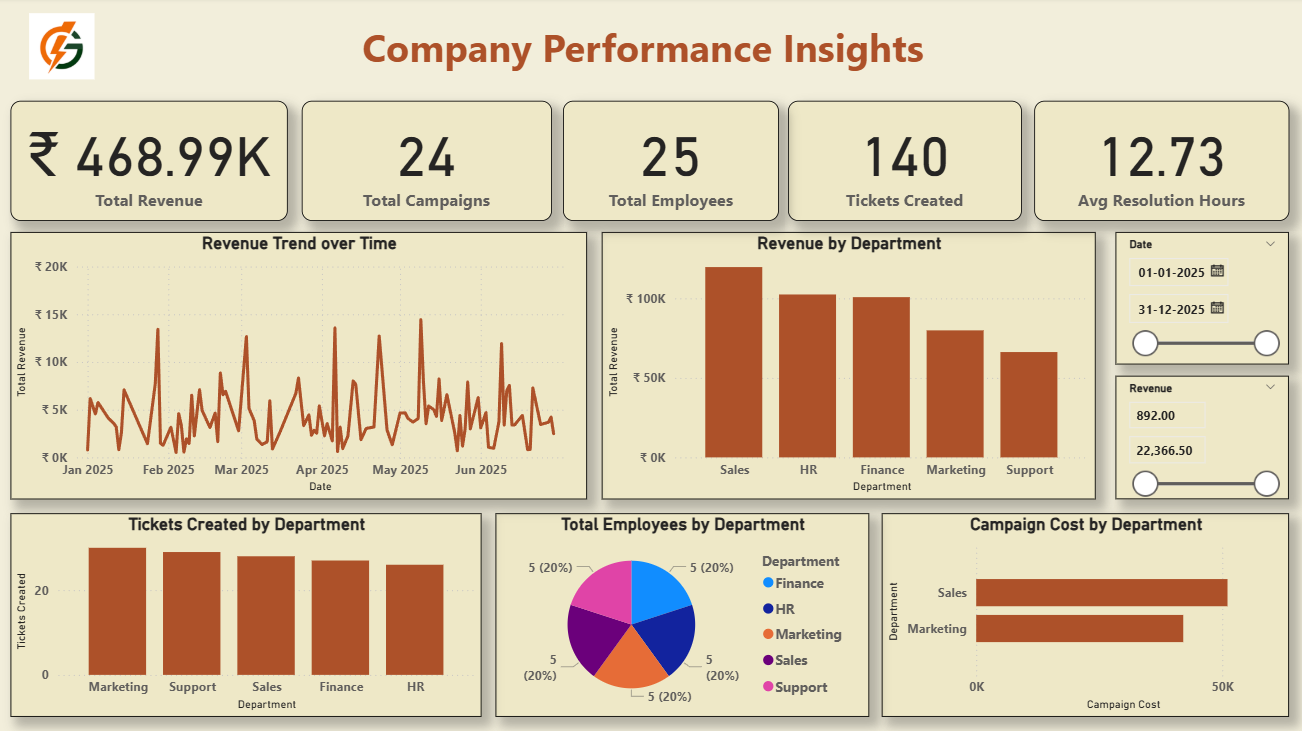

The dashboard page shown, as its layout file describes it:
{"tool":"powerbi","page":{"name":"Executive Dashboard","canvas":[1280,720],"ordinal":0},"visuals":[{"type":"card","fields":{"Values":["transactions.Total Revenue"]},"box":[12.2,101.5,271.5,117.4],"z":0},{"type":"clusteredColumnChart","title":"Revenue by Department","fields":{"Category":["transactions.Department"],"Y":["transactions.Total Revenue"]},"box":[590.6,229.9,483,261.7],"z":3},{"type":"card","fields":{"Values":["campaigns.Total Campaigns"]},"box":[297.1,101.5,244.6,117.4],"z":4},{"type":"barChart","fields":{"Category":["campaigns.Department"],"Y":["campaigns.Campaign Cost"]},"box":[864.5,505,398.6,199.3],"z":8},{"type":"card","fields":{"Values":["tickets.Tickets Created"]},"box":[772.8,101.5,228.7,117.4],"z":9},{"type":"card","fields":{"Values":["tickets.Avg Resolution Hours"]},"box":[1013.7,101.5,249.5,117.4],"z":11},{"type":"card","fields":{"Values":["employees.Total Employees"]},"box":[552.7,101.5,211.6,117.4],"z":13},{"type":"pieChart","fields":{"Category":["employees.Department"],"Y":["employees.Total Employees"]},"box":[486.7,505,365.6,199.3],"z":16},{"type":"slicer","fields":{"Values":["Date.Date"]},"box":[1093.2,229.9,170,129.6],"z":17},{"type":"lineChart","title":"Revenue Trend over Time","fields":{"Category":["Date.Date"],"Y":["transactions.Total Revenue"]},"box":[12.2,229.9,563.7,261.7],"z":19},{"type":"clusteredColumnChart","fields":{"Y":["tickets.Tickets Created"],"Category":["tickets.Department"]},"box":[12.2,505,461,199.3],"z":20},{"type":"slicer","fields":{"Values":["campaigns.Revenue"]},"box":[1093.2,370.5,170,121.1],"z":21},{"type":"textbox","box":[331.4,18.3,599.2,59.9],"z":22},{"type":"image","box":[23.2,11,78.3,74.6],"z":23}]}

Visuals, with their boxes in screenshot pixels (x1, y1, x2, y2), scaled from the page's 1280x720 canvas onto the 1302x731 screenshot:
card - transactions.Total Revenue: left=12, top=103, right=289, bottom=222
"Revenue by Department" clusteredColumnChart: left=601, top=233, right=1092, bottom=499
card - campaigns.Total Campaigns: left=302, top=103, right=551, bottom=222
barChart - campaigns.Department x campaigns.Campaign Cost: left=879, top=513, right=1285, bottom=715
card - tickets.Tickets Created: left=786, top=103, right=1019, bottom=222
card - tickets.Avg Resolution Hours: left=1031, top=103, right=1285, bottom=222
card - employees.Total Employees: left=562, top=103, right=777, bottom=222
pieChart - employees.Department x employees.Total Employees: left=495, top=513, right=867, bottom=715
slicer - Date.Date: left=1112, top=233, right=1285, bottom=365
"Revenue Trend over Time" lineChart: left=12, top=233, right=586, bottom=499
clusteredColumnChart - tickets.Tickets Created x tickets.Department: left=12, top=513, right=481, bottom=715
slicer - campaigns.Revenue: left=1112, top=376, right=1285, bottom=499
textbox: left=337, top=19, right=947, bottom=79
image: left=24, top=11, right=103, bottom=87
